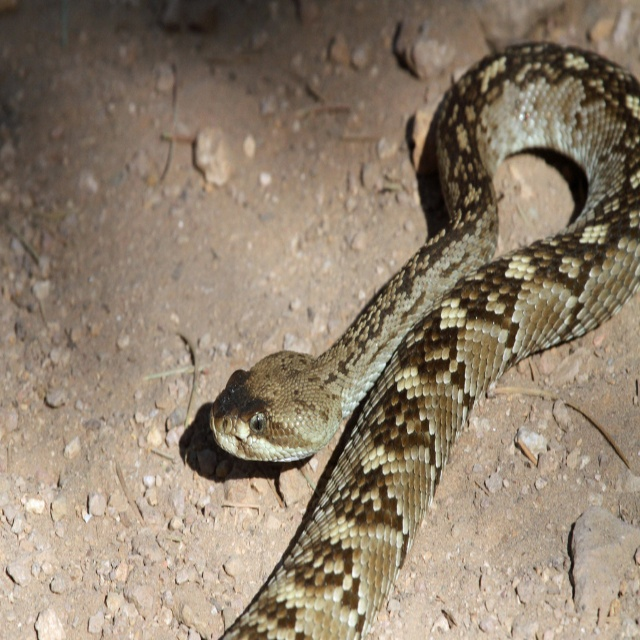Snake: (211, 40, 640, 639)
